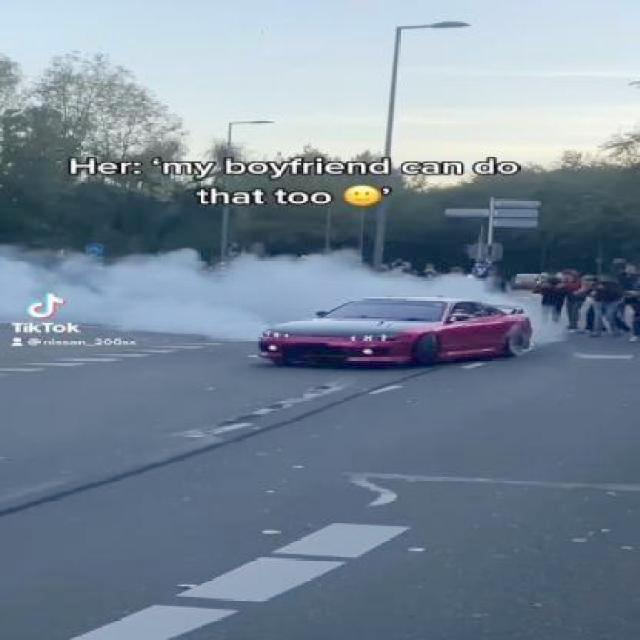car: (255, 292, 538, 366)
